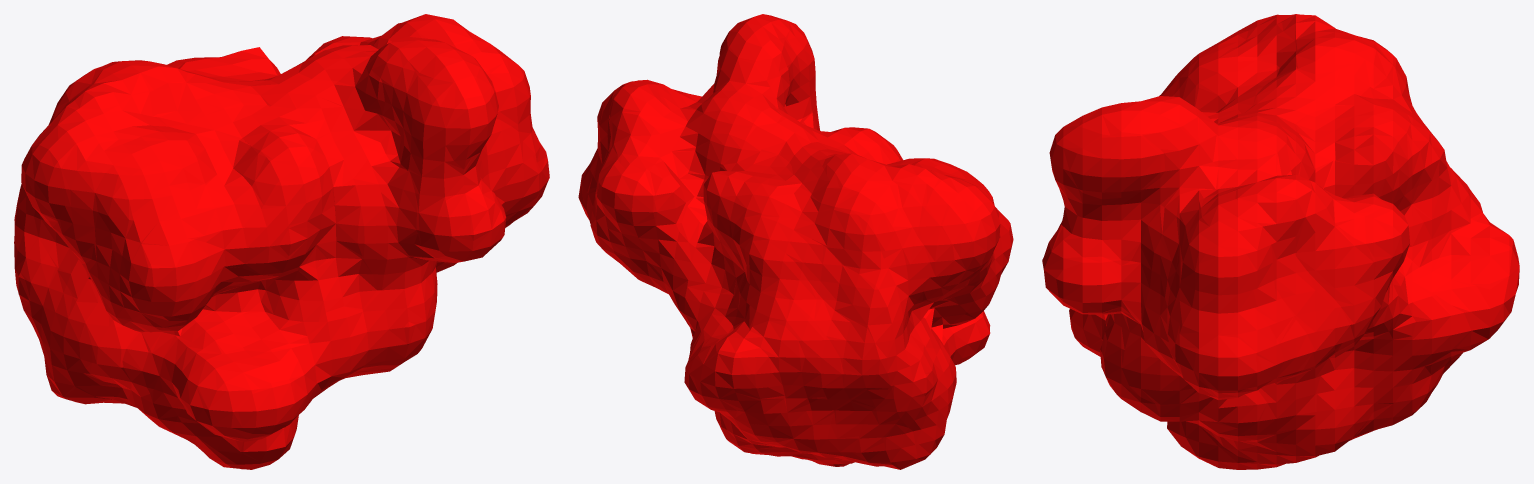
The model's file is uxaA_coarse.dae.
The picture shows the model from 3 angles, left to right: view 1: azimuth 30°, elevation 25°; view 2: azimuth 150°, elevation 25°; view 3: azimuth 270°, elevation 25°; orthographic projection. The views are drawn at different scales.
Parts seen in each view (by area): view 1: uxaA; view 2: uxaA; view 3: uxaA.
Part boxes in pixels (left/top/right/bottom): uxaA: left=14, top=14, right=549, bottom=469; uxaA: left=578, top=14, right=1013, bottom=469; uxaA: left=1042, top=14, right=1519, bottom=469.
Size of the model in its own units: 74.54 by 61.24 by 61.16.
